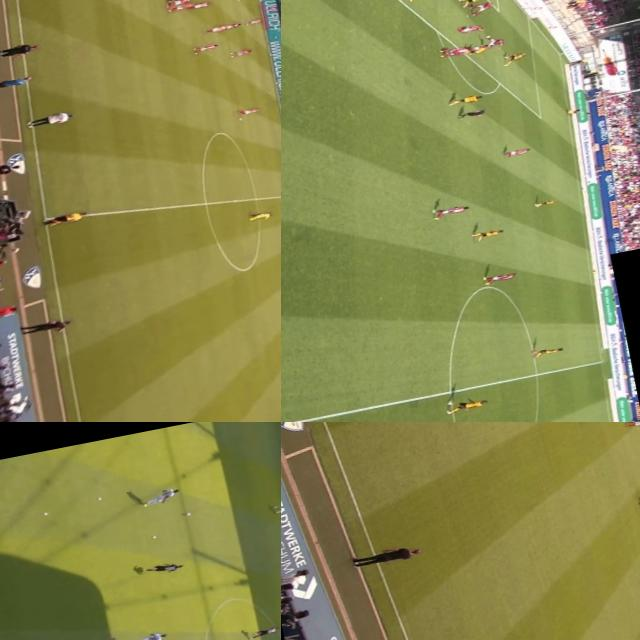ball: (234, 114, 250, 121), (482, 32, 496, 40), (182, 510, 192, 518), (40, 512, 50, 518), (97, 496, 104, 502), (152, 534, 158, 539)
player: (445, 395, 489, 415), (430, 200, 470, 220), (138, 486, 176, 507), (142, 560, 185, 576), (472, 226, 507, 242), (448, 92, 482, 108), (245, 624, 281, 639), (500, 49, 530, 66), (482, 270, 516, 284), (467, 0, 497, 15), (482, 34, 508, 50), (531, 344, 565, 356), (440, 45, 474, 57), (121, 631, 166, 640), (463, 43, 489, 56), (461, 22, 485, 36), (504, 146, 530, 158), (204, 22, 229, 34), (534, 197, 560, 208), (458, 0, 490, 8), (195, 41, 218, 52), (237, 106, 265, 115), (249, 212, 274, 222), (186, 0, 211, 10), (171, 2, 195, 12), (230, 48, 253, 58), (224, 20, 242, 30), (243, 17, 265, 25), (168, 0, 193, 6), (273, 500, 281, 513), (167, 0, 191, 2)
